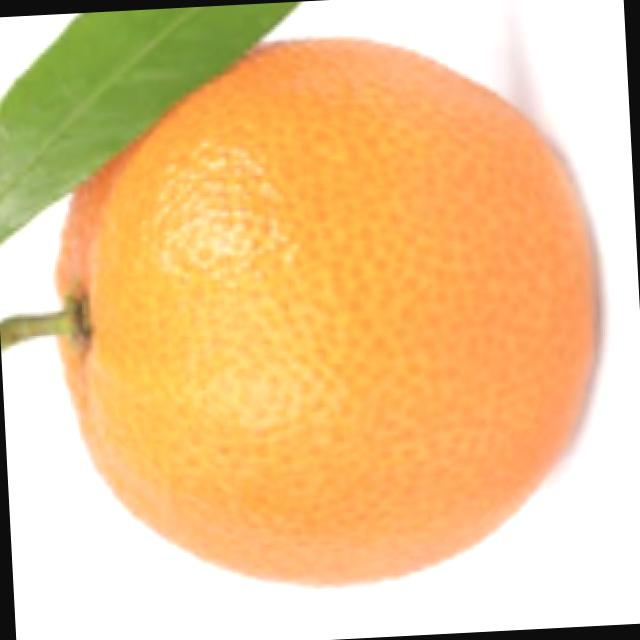orange: (16, 1, 633, 597)
